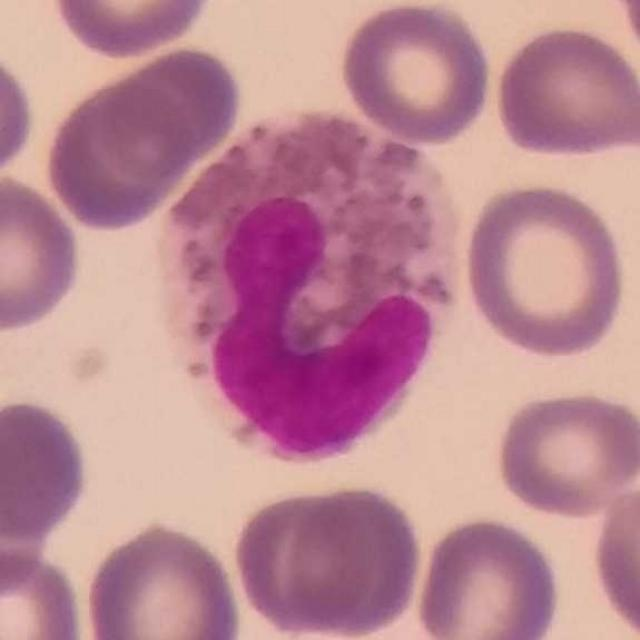eosino: (154, 106, 465, 472)
